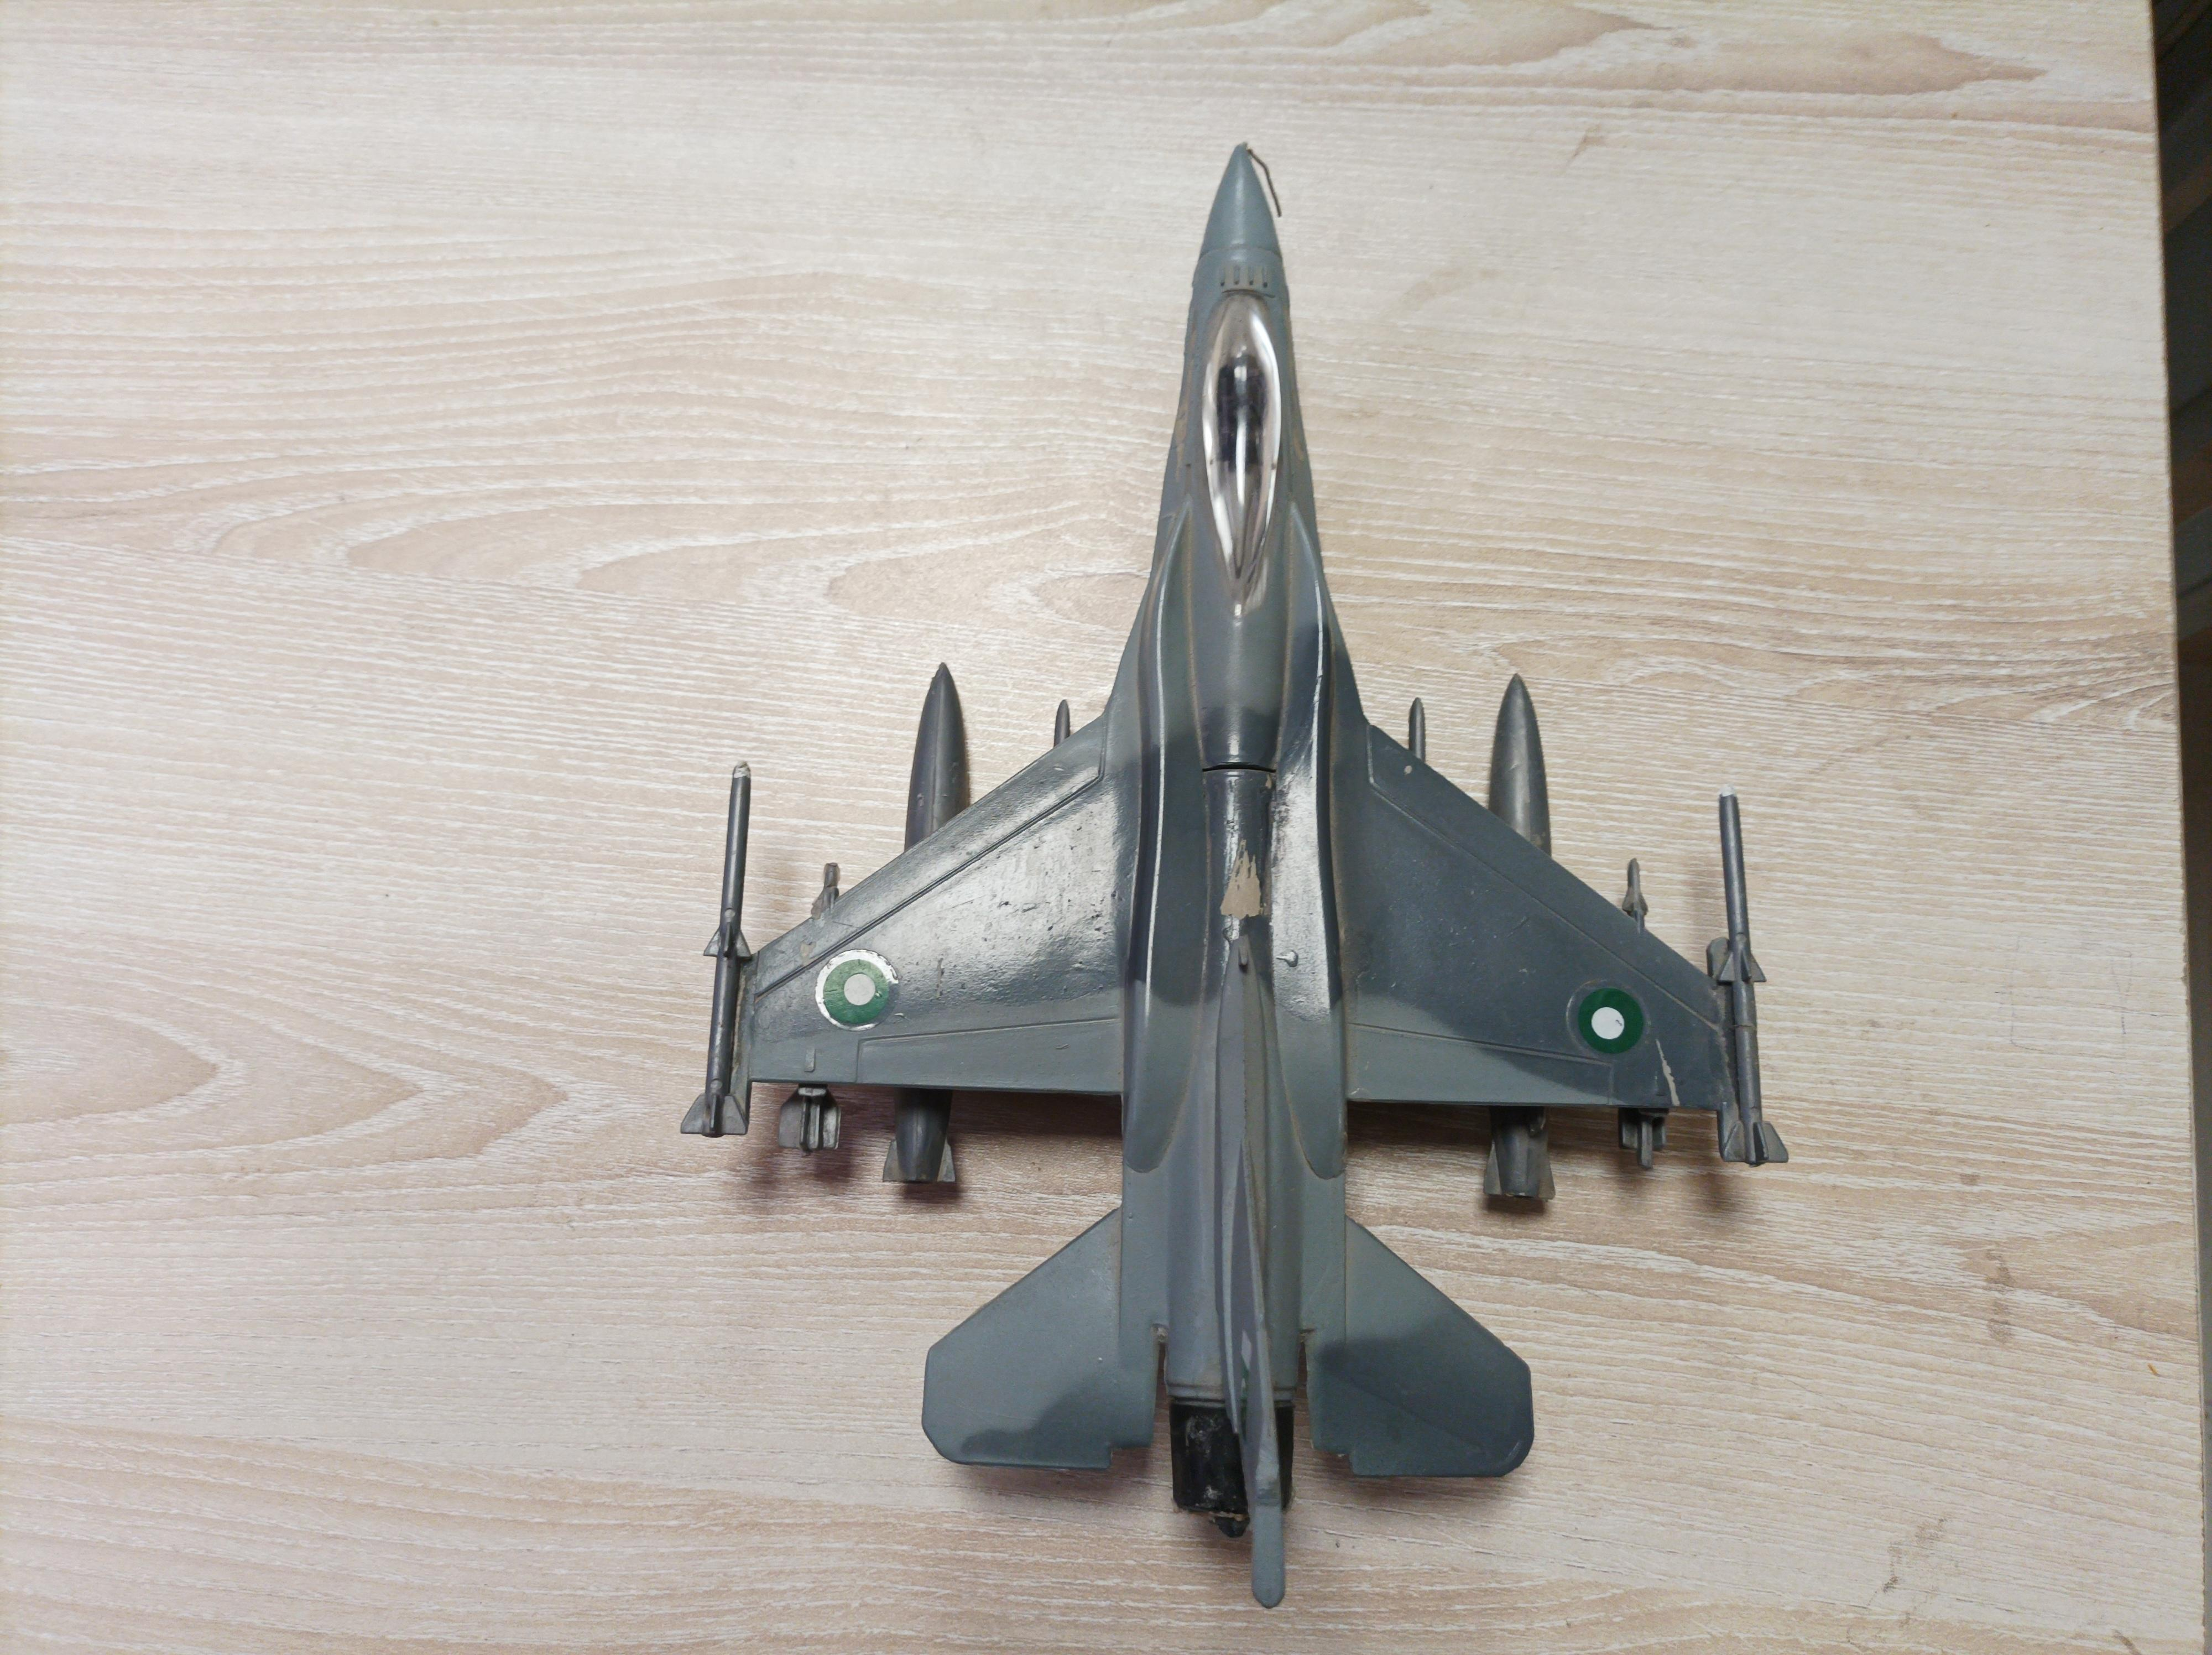Airplane: (619, 99, 1811, 1624)
